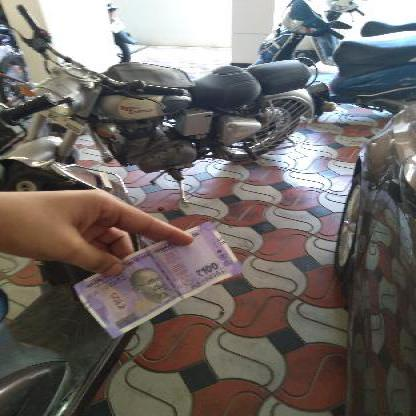New100Front: (77, 223, 244, 323)
